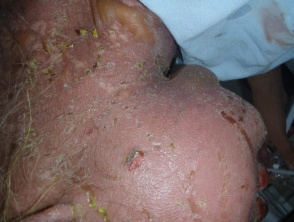SJS-TEN: (0, 0, 172, 106)
